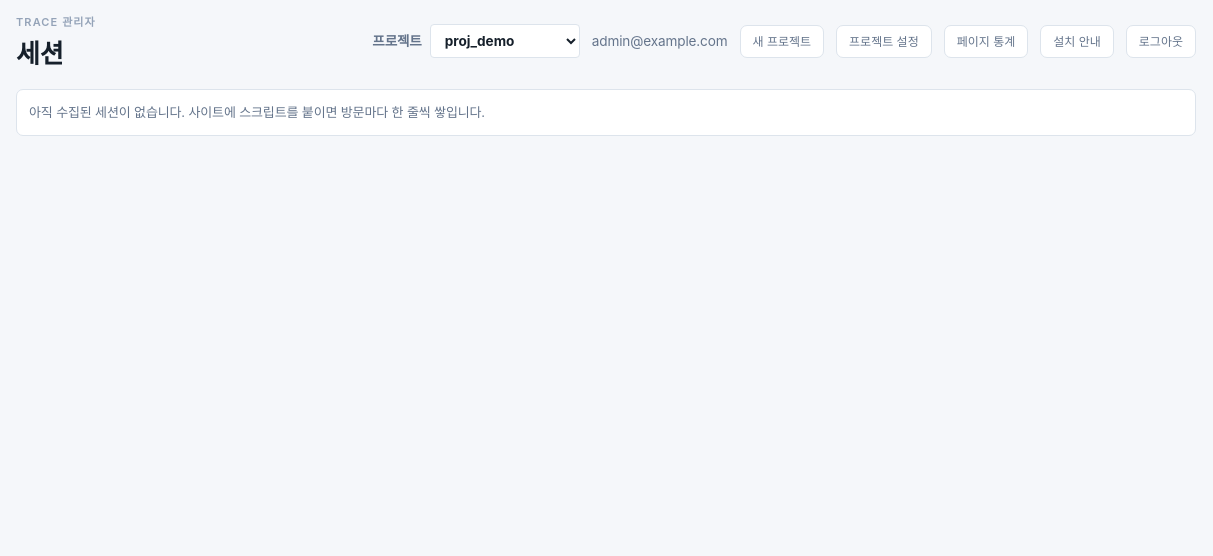
Test: App 온보딩 › 대시보드에서 설치 안내로 돌아갈 수 있다
Click the button "설치 안내".
click(1077, 41)  # box [1040,25,1114,58]
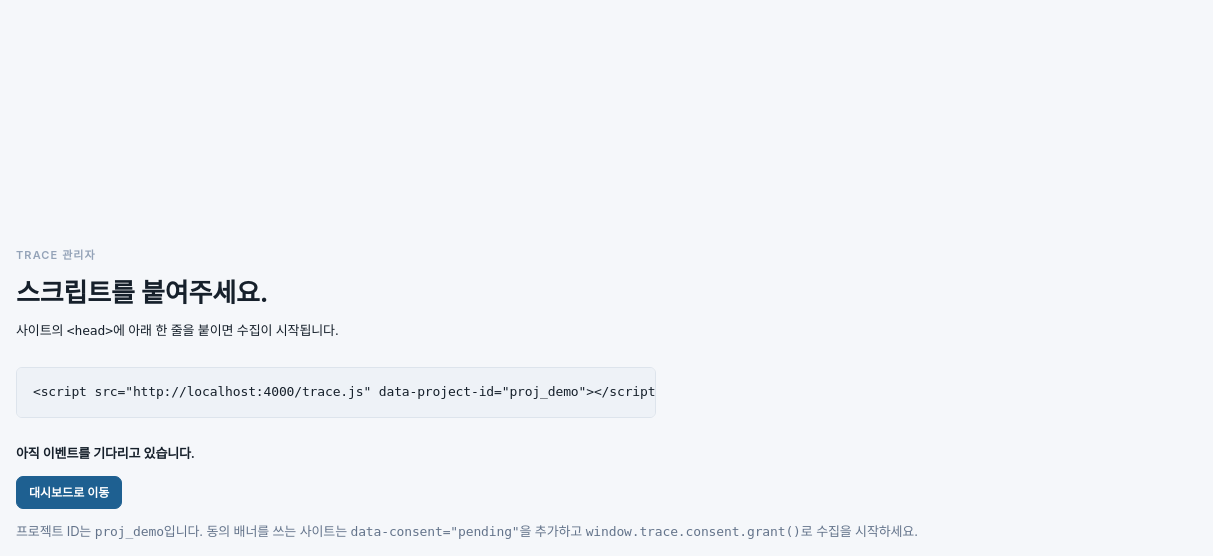
Check: the heading "스크립트를 붙여주세요." is shown, box [16,277,268,308]
